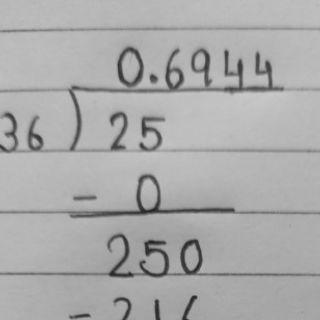.: (147, 69, 160, 85)
0: (115, 44, 146, 88), (133, 172, 163, 211), (177, 238, 206, 276)
2: (105, 229, 138, 279), (108, 109, 130, 152)
3: (1, 109, 21, 155)
4: (221, 43, 247, 88), (253, 45, 277, 87)
5: (138, 232, 172, 279), (138, 114, 169, 153)
6: (163, 44, 185, 89), (26, 112, 46, 153)
9: (190, 46, 213, 87)
